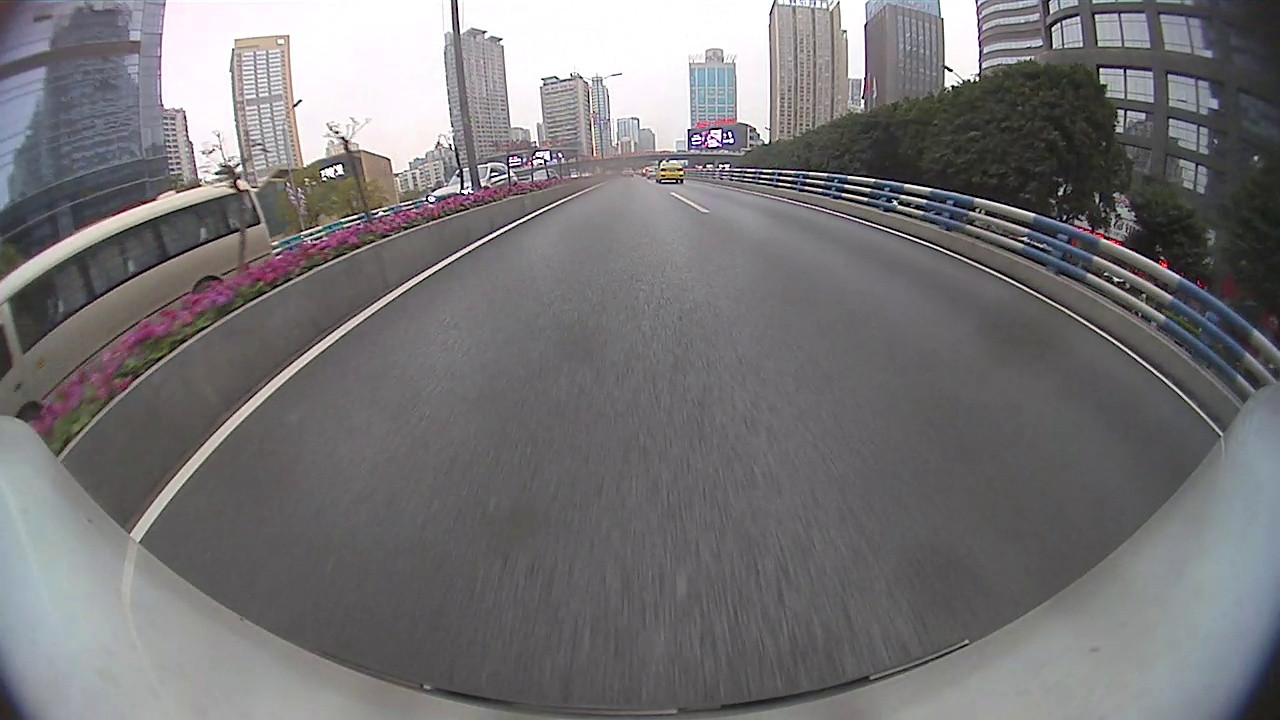bus: (1, 175, 285, 419)
car: (425, 159, 522, 207), (519, 165, 564, 187), (653, 157, 687, 185)
